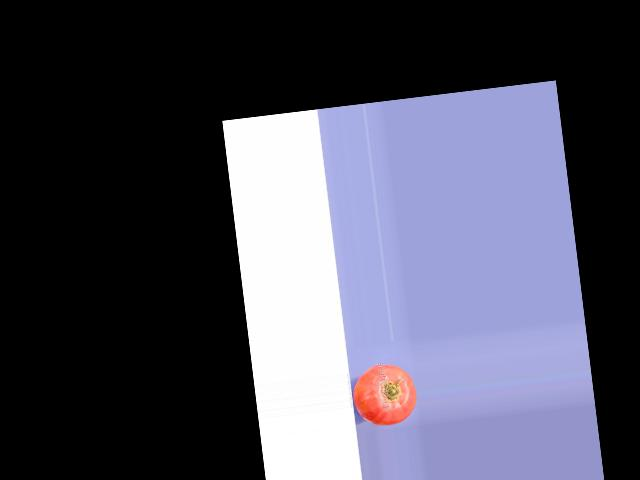tomato: (350, 361, 419, 429)
